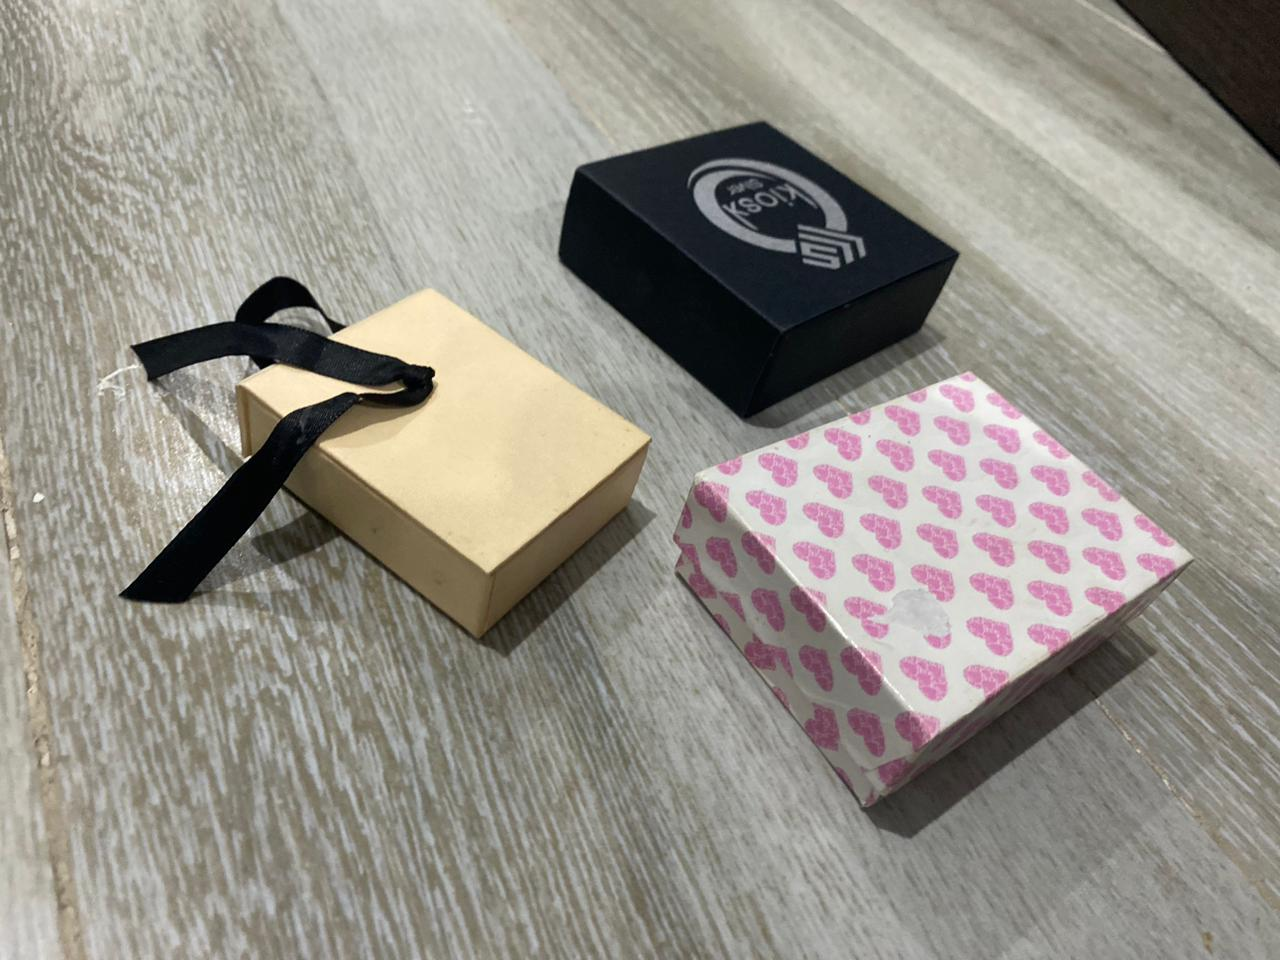Pink Box: (676, 369, 1198, 815)
Red Box: (551, 115, 972, 426)
Yellow Box: (226, 284, 657, 640)
